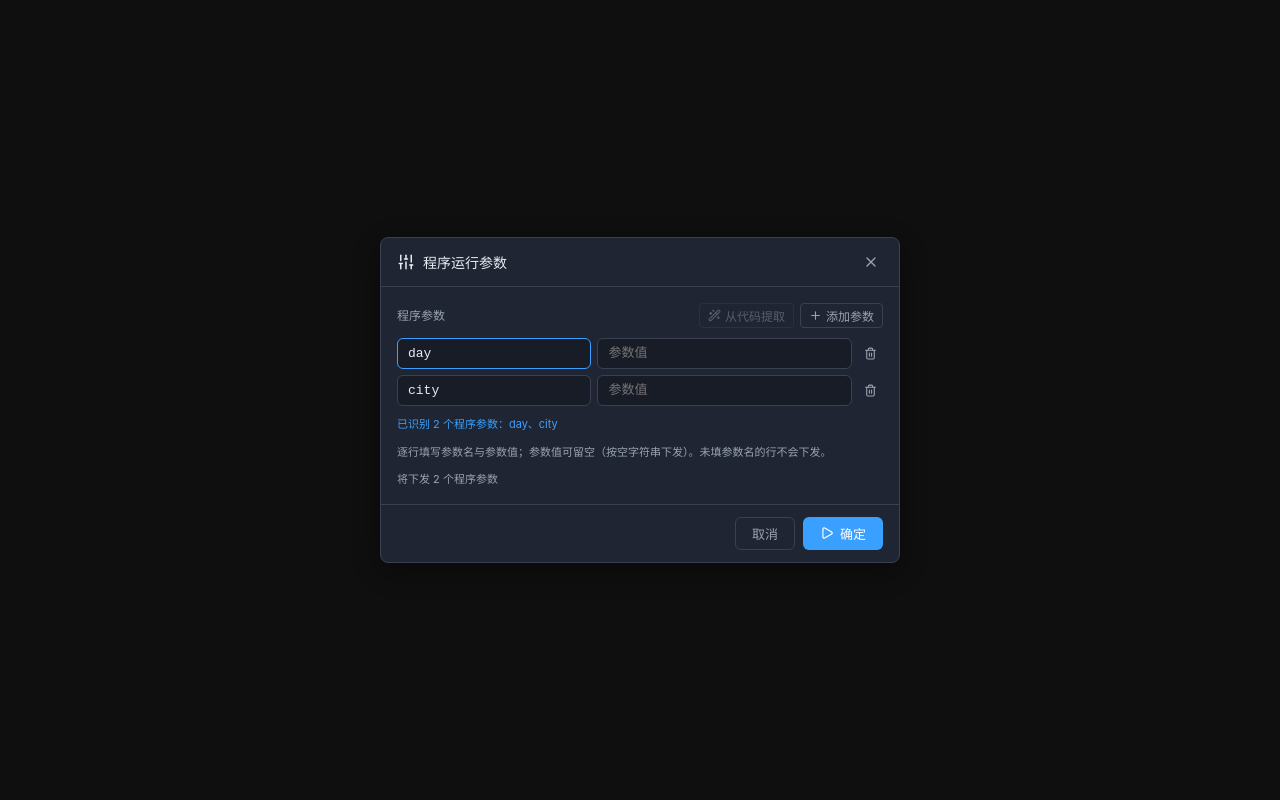
Test: ProgramRunModal › 「从代码提取」把删掉的行补回来；没有缺失时按钮禁用
The width and height of the screenshot is (1280, 800).
Expected: the button with test id "program-run-extract" is disabled, [699,303,794,328]
Click the button with test id "program-run-remove-0". click: (870, 354)
box: [858,341,883,366]
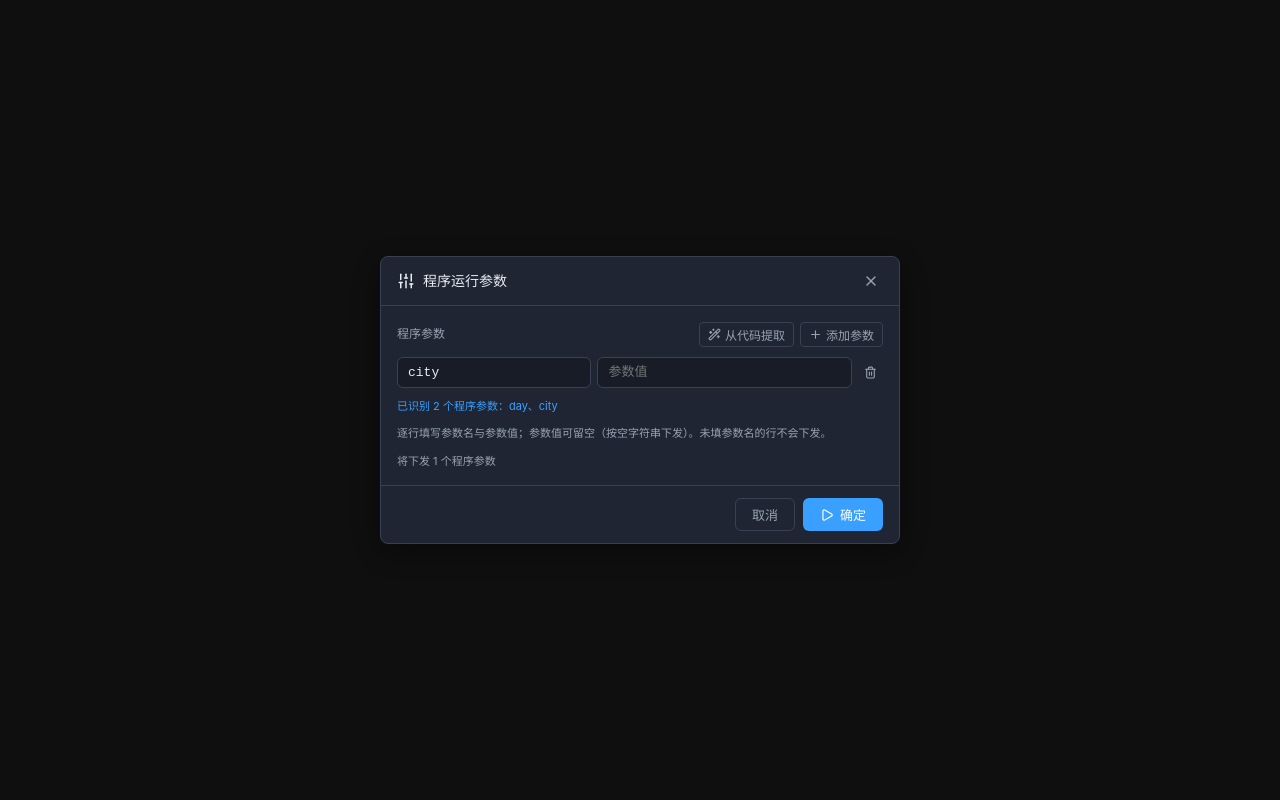
Expected: the field with test id "program-run-key-0" holds "city", [397,357,591,388]
Expected: the button with test id "program-run-extract" is enabled
Click the button with test id "program-run-extract". click: (746, 334)
box: [699,322,794,347]
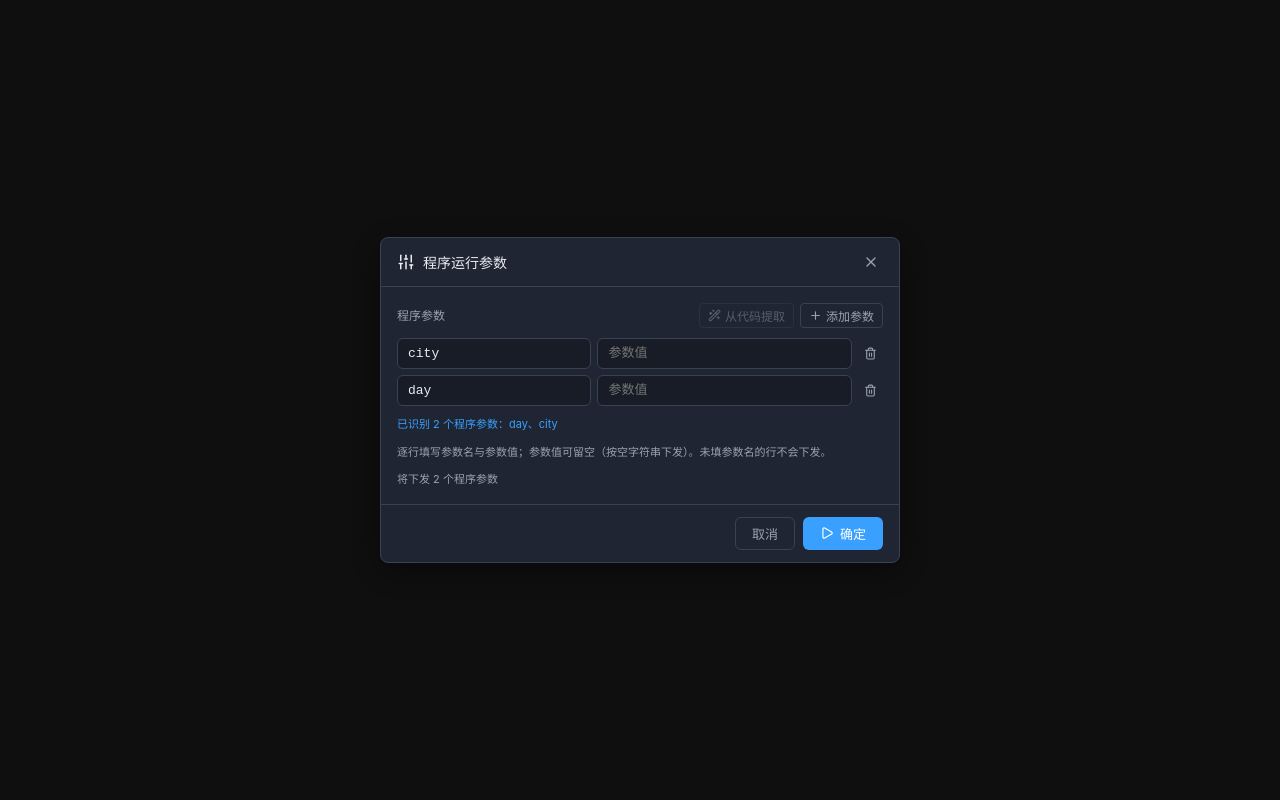
Expected: the field with test id "program-run-key-0" holds "city", [397,338,591,369]
Expected: the field with test id "program-run-key-1" holds "day", [397,375,591,406]
Expected: the button with test id "program-run-extract" is disabled, [699,303,794,328]
